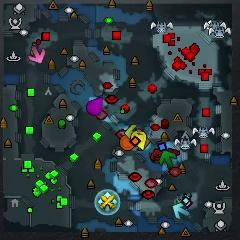Other: (93, 190, 120, 216)
p3: (86, 96, 104, 115)
p4: (130, 129, 145, 150)
p5: (121, 136, 137, 150)
x1: (30, 45, 45, 65)
x2: (124, 124, 141, 139)
x3: (172, 201, 191, 219)
x4: (158, 149, 176, 169)
